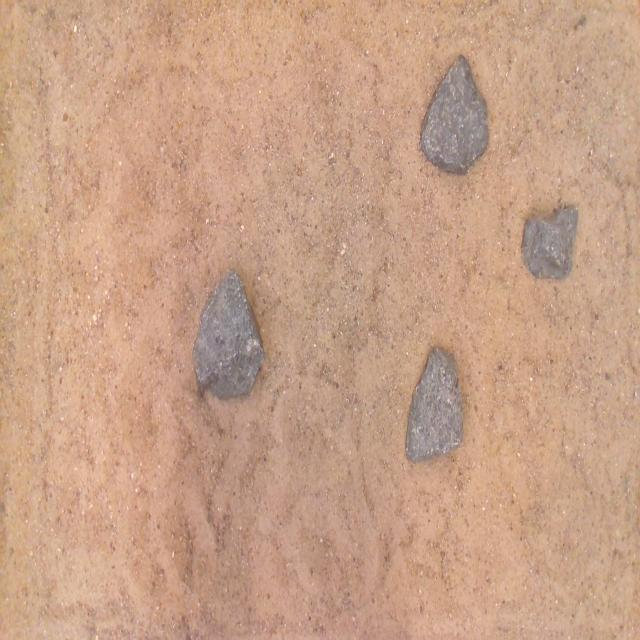rock: (193, 270, 264, 398), (420, 56, 488, 174), (406, 348, 463, 460), (522, 206, 577, 278)
